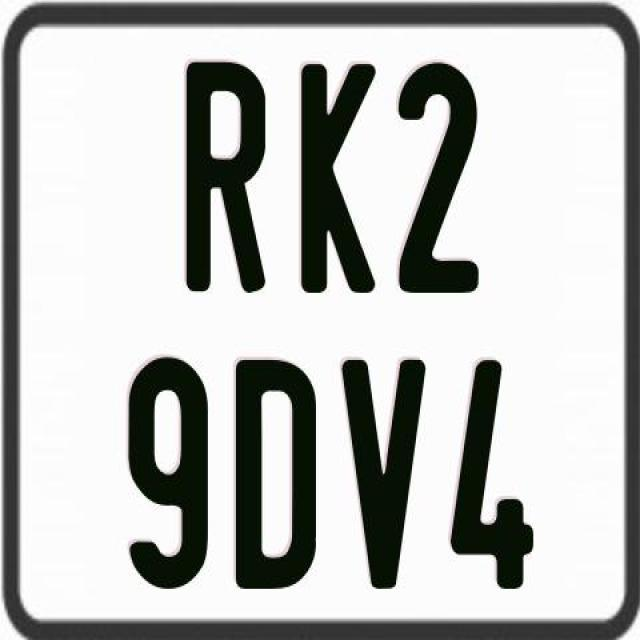2: (396, 63, 476, 295)
4: (448, 356, 530, 591)
9: (125, 357, 207, 589)
D: (236, 358, 320, 596)
K: (297, 59, 379, 288)
R: (185, 60, 267, 295)
V: (339, 355, 431, 584)
